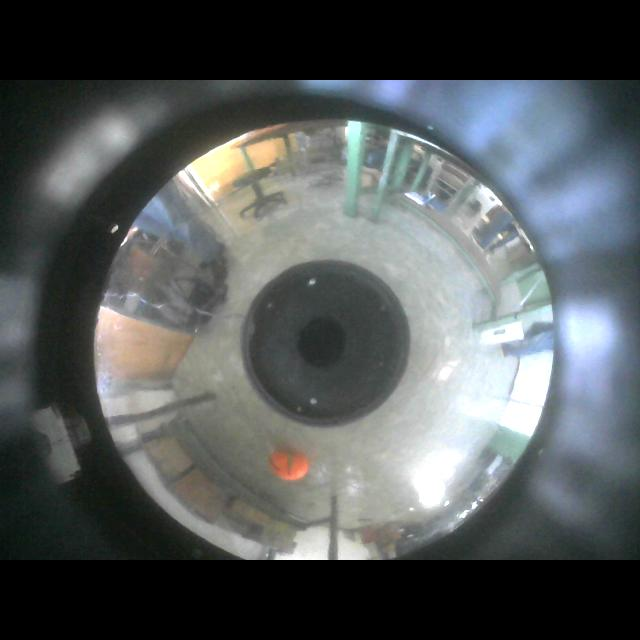bola: (269, 447, 309, 480)
